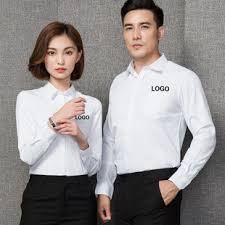F_shirt: (97, 55, 215, 193), (14, 81, 103, 179)
